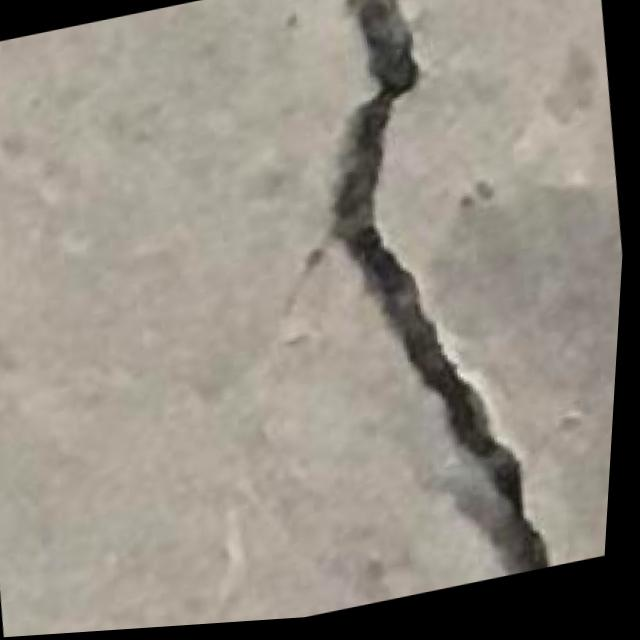Crack: (274, 0, 603, 617)
